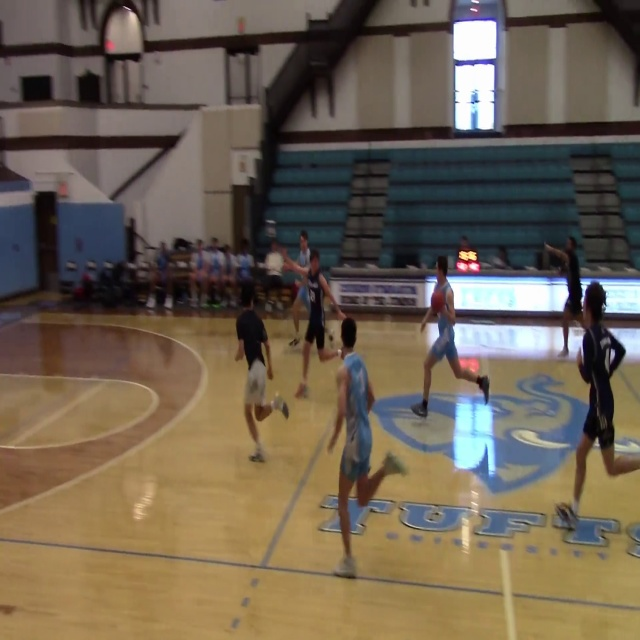Basketball: (430, 289, 446, 313)
